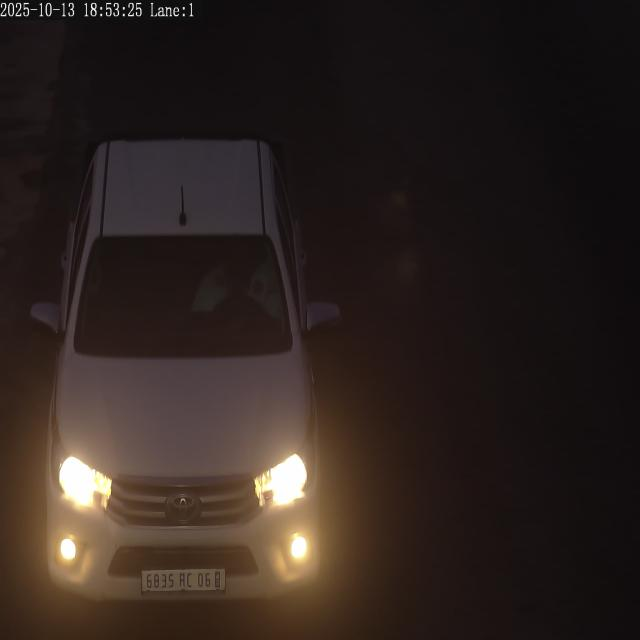BUS: (141, 569, 225, 592)
